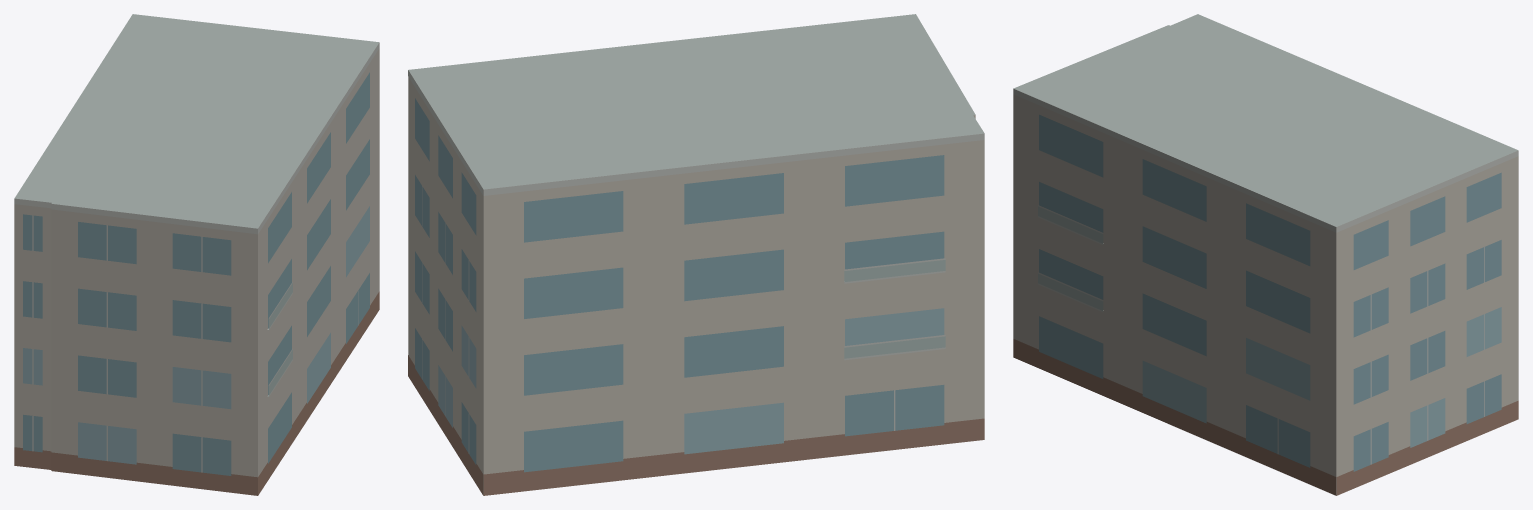
File: survey-upis-33017450.glb
The picture shows the model from 3 angles, left to right: view 1: azimuth 30°, elevation 25°; view 2: azimuth 150°, elevation 25°; view 3: azimuth 270°, elevation 25°; orthographic projection. The views are drawn at different scales.
Parts seen in each view (by area): view 1: survey-upis-33017450.tmp; view 2: survey-upis-33017450.tmp; view 3: survey-upis-33017450.tmp.
Boxes of the visible parts, <box> form: survey-upis-33017450.tmp: <box>14,14,379,495</box>; survey-upis-33017450.tmp: <box>408,14,984,495</box>; survey-upis-33017450.tmp: <box>1013,14,1518,495</box>.
Size of the model in its own units: 19.73 by 11.6 by 19.78.
